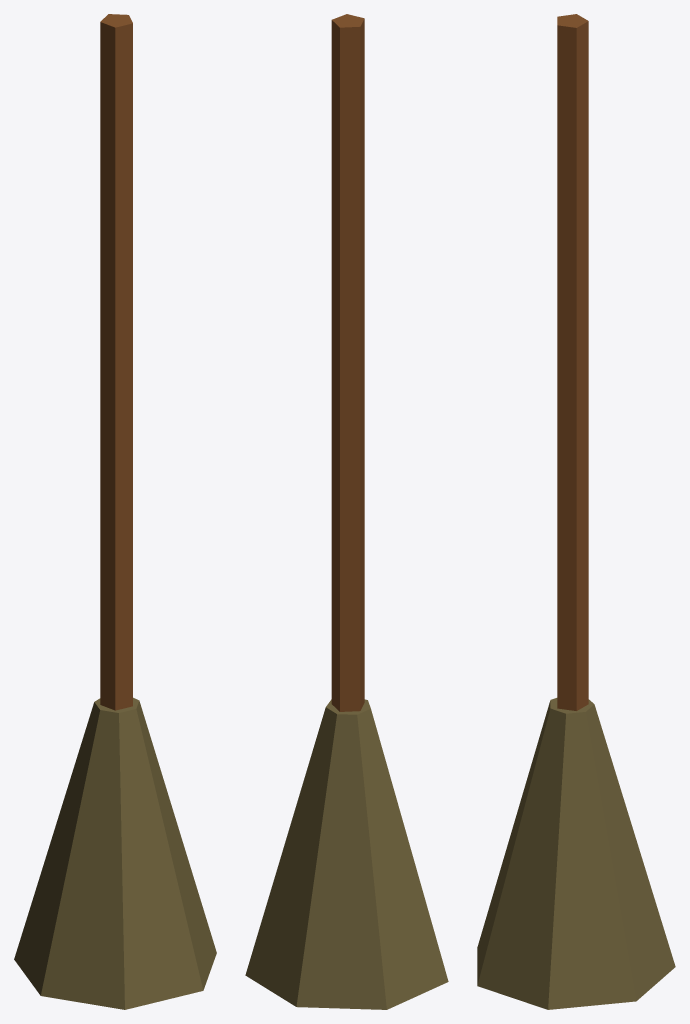
File: broomstick.glb
3 views of the same model, side by side, from view 1: azimuth 30°, elevation 25°; view 2: azimuth 150°, elevation 25°; view 3: azimuth 270°, elevation 25° (orthographic).
Visible parts, largest first — view 1: broomstick; view 2: broomstick; view 3: broomstick.
Boxes of the visible parts, box(x1,y1,x2,y2) form: broomstick: box(14, 14, 216, 1009); broomstick: box(245, 14, 448, 1009); broomstick: box(477, 14, 675, 1009).
Size of the model in its own units: 0.351 by 1.8 by 0.3422.
